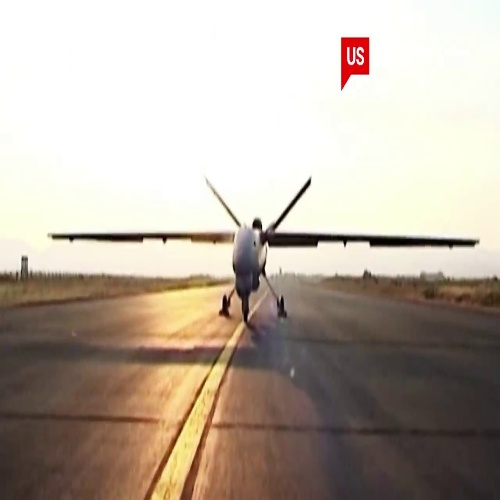uav182: (45, 173, 486, 323)
